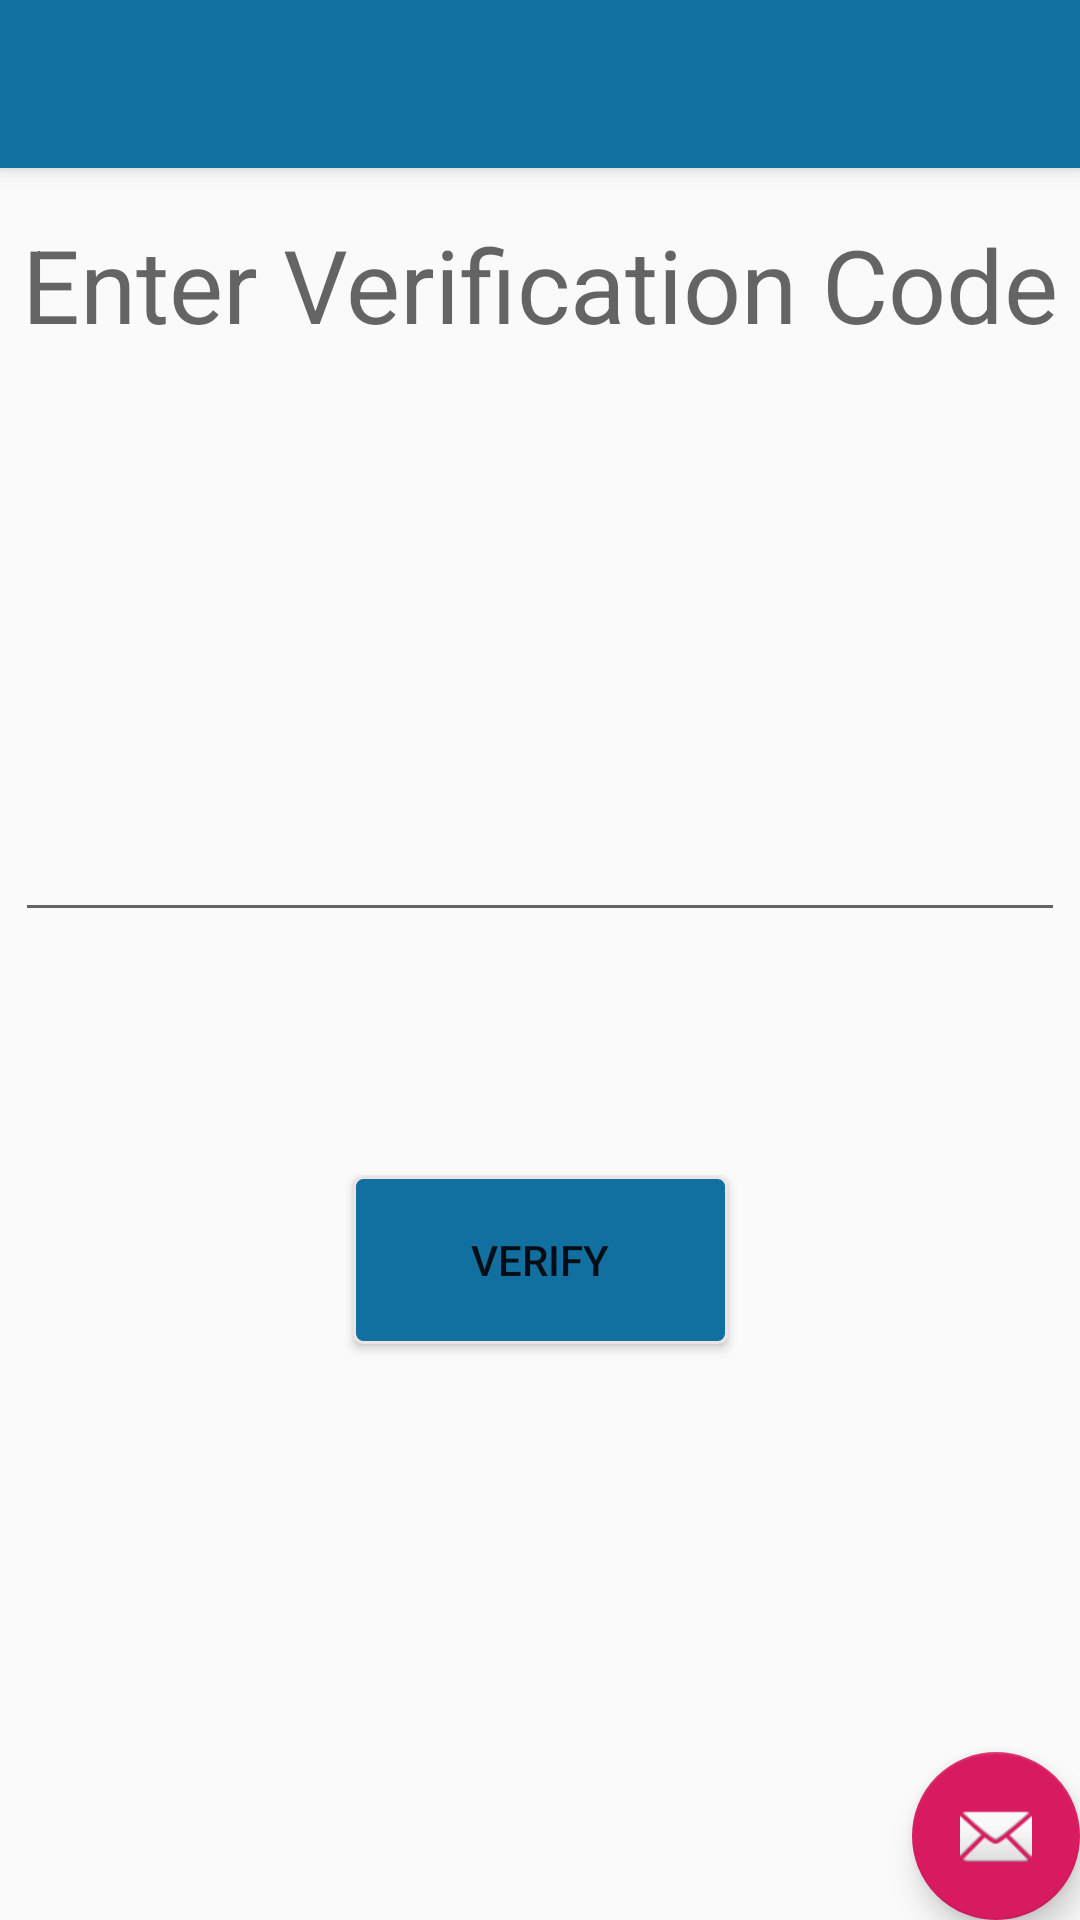

Icons on this 1080px×1920px Android screen, each with the point to tap as point (x, y):
email: point (996, 1836)
